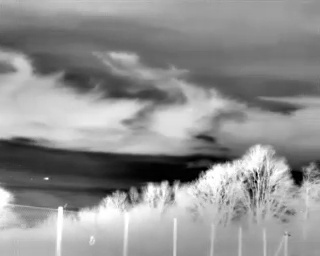HELICOPTER: (42, 174, 52, 183)
